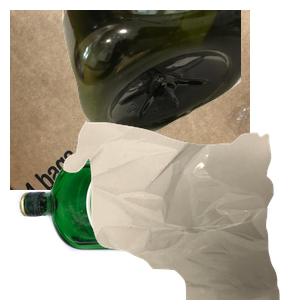cardboard: (10, 10, 250, 190)
glass: (14, 150, 247, 300)
plastic: (60, 10, 300, 139)
trash: (61, 120, 300, 300)
